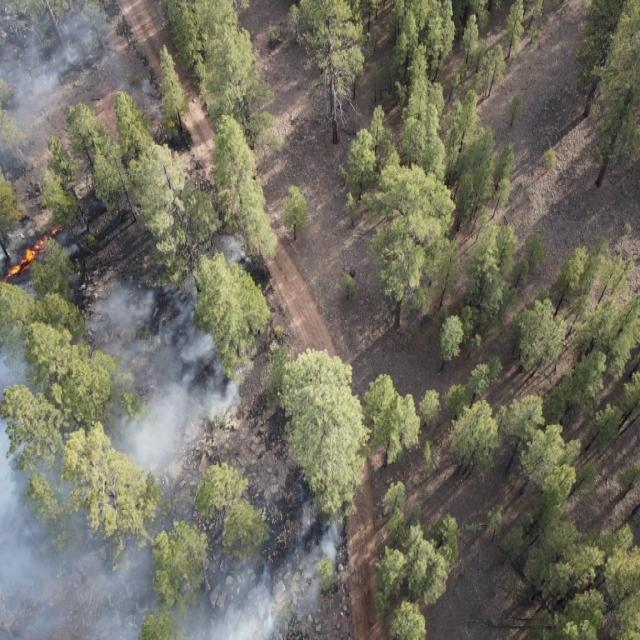fire: (0, 221, 67, 295), (196, 514, 207, 528), (266, 551, 274, 565)
smoke: (0, 222, 346, 640), (0, 0, 163, 136)
